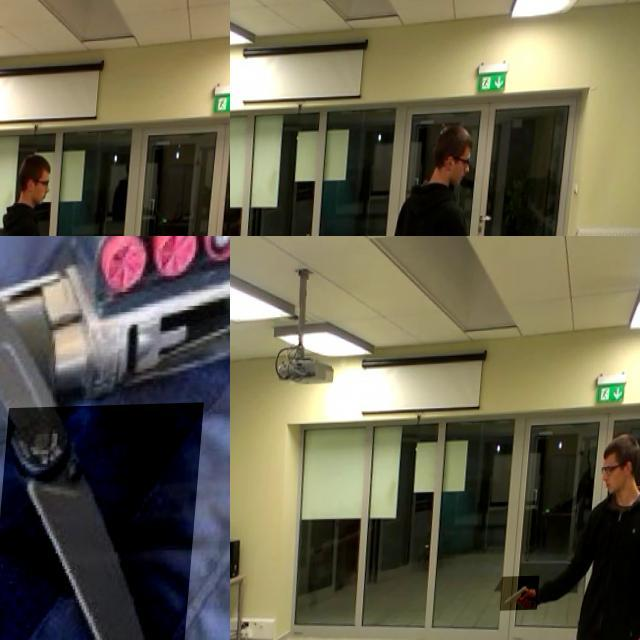-: (0, 405, 208, 640)
gun-knife-thesis - v11 Yolov5 augmented: (507, 578, 546, 613)
